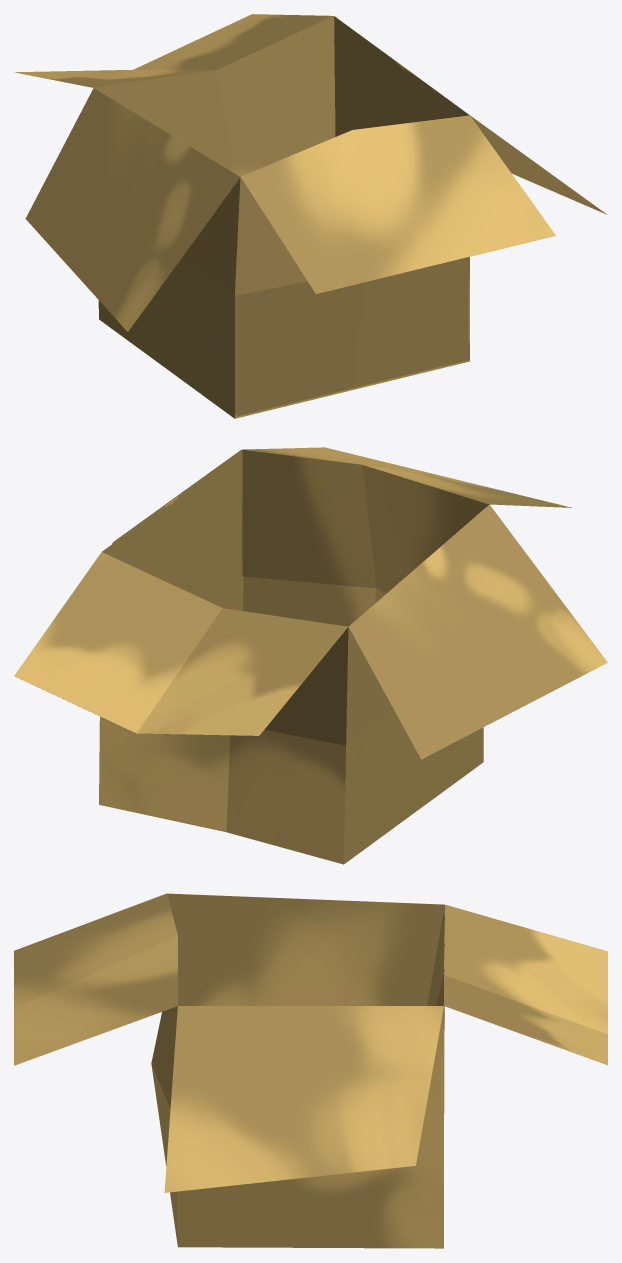
Rendered from Test_asset.glb.
The picture shows the model from 3 angles, top to bottom: view 1: azimuth 30°, elevation 25°; view 2: azimuth 150°, elevation 25°; view 3: azimuth 270°, elevation 25°; orthographic projection. The views are drawn at different scales.
Visible parts, largest first — view 1: Box; view 2: Box; view 3: Box.
Boxes of the visible parts, x1=… form: Box: x1=15, y1=14, x2=607, y2=418; Box: x1=14, y1=447, x2=607, y2=864; Box: x1=14, y1=893, x2=607, y2=1248.
Bounding box in the file's own units: 4.08 × 2.11 × 4.46.
Materials: 1 (1 with a texture image).
